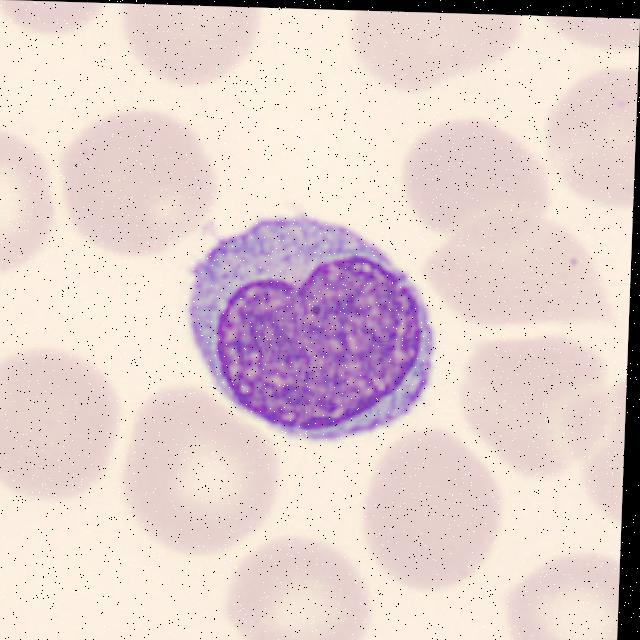monocyte: (168, 178, 471, 455)
rbc: (416, 186, 617, 342), (352, 420, 508, 607), (122, 387, 291, 551), (386, 103, 568, 254), (60, 91, 222, 258), (442, 328, 619, 472), (0, 338, 124, 515), (219, 527, 378, 640), (538, 69, 638, 224), (334, 10, 534, 80), (0, 111, 70, 274), (501, 545, 620, 640), (548, 376, 626, 519), (122, 4, 262, 81), (535, 16, 640, 67), (0, 0, 117, 44)
